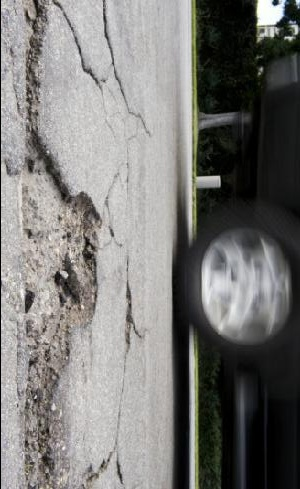pothole: (15, 126, 106, 412)
